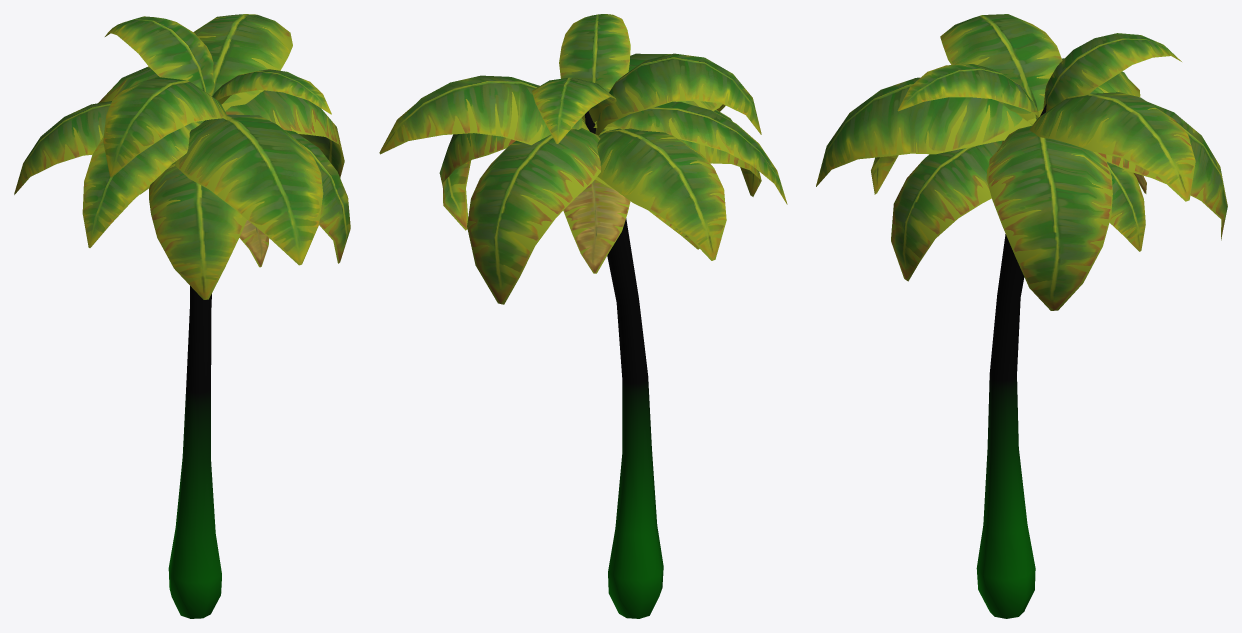
The model's file is P_PalmTree02.obj.
3 views of the same model, side by side, from view 1: azimuth 30°, elevation 25°; view 2: azimuth 150°, elevation 25°; view 3: azimuth 270°, elevation 25° (orthographic). The views are drawn at different scales.
Size of the model in its own units: 5.93 by 10.61 by 6.83.
